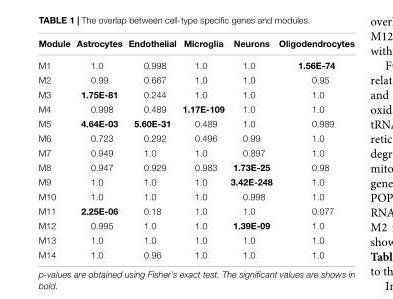table: (37, 37, 353, 259)
table column: (274, 37, 353, 259), (124, 37, 178, 259), (72, 37, 124, 259), (178, 37, 226, 259), (226, 37, 274, 259), (37, 37, 72, 259)
table column header: (37, 37, 353, 53)
table row: (37, 53, 353, 71), (37, 37, 353, 53), (37, 71, 353, 86), (37, 86, 353, 101), (37, 115, 353, 130), (37, 144, 353, 159), (37, 173, 353, 188), (37, 188, 353, 203), (37, 217, 353, 232), (37, 101, 353, 115), (37, 130, 353, 144), (37, 159, 353, 173), (37, 203, 353, 217), (37, 232, 353, 246), (37, 246, 353, 259)
